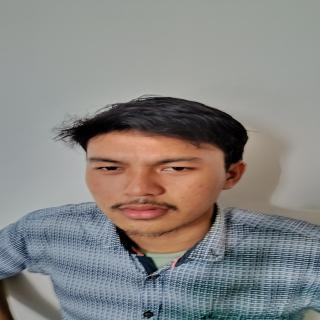Marah: (74, 123, 234, 240)
